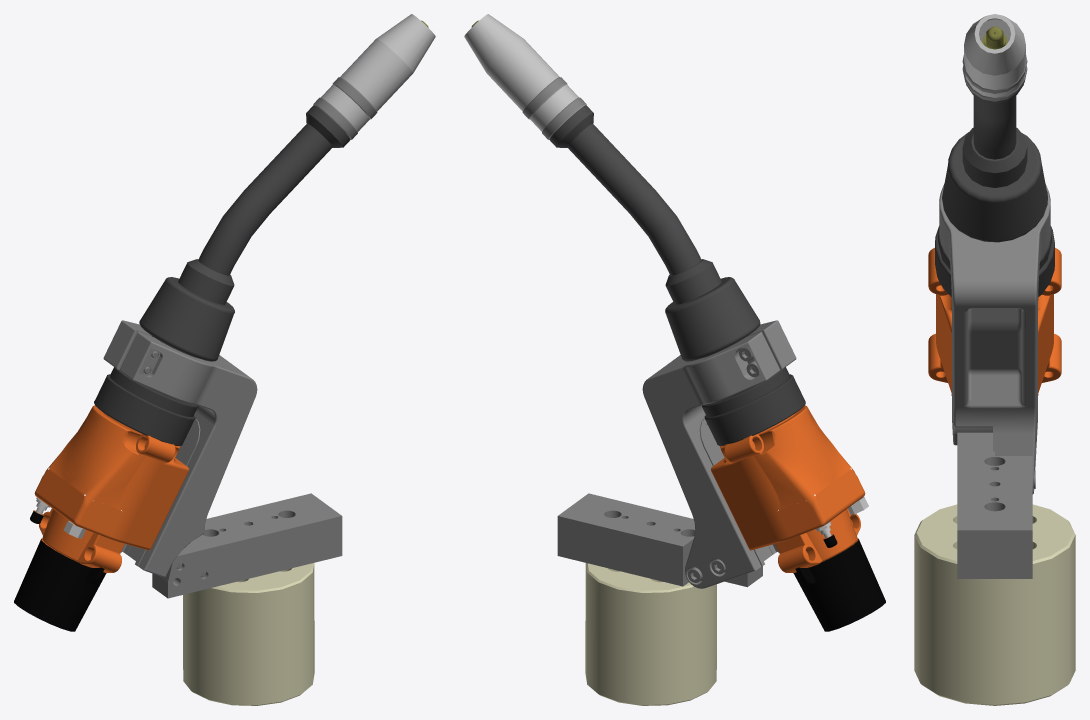
The model's file is PKI_500_di_M2001.glb.
3 renders of one model, left to right at view 1: azimuth 30°, elevation 25°; view 2: azimuth 150°, elevation 25°; view 3: azimuth 270°, elevation 25°, orthographic. The views are drawn at different scales.
Parts seen in each view (by area): view 1: PKI_500_di_M2001; view 2: PKI_500_di_M2001; view 3: PKI_500_di_M2001.
Part boxes in pixels (x1,y1,x2,y2): PKI_500_di_M2001: (14, 14, 435, 705); PKI_500_di_M2001: (464, 14, 885, 705); PKI_500_di_M2001: (914, 14, 1075, 705).
Size of the model in its own units: 0.2705 by 0.3891 by 0.075.
